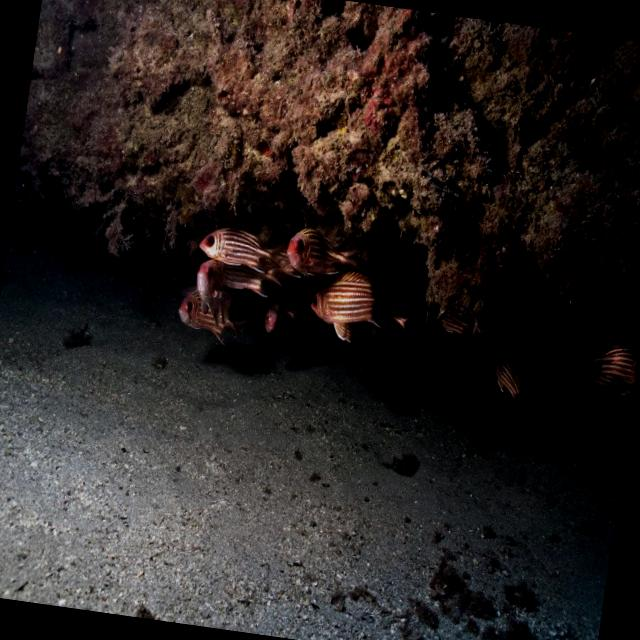Asker Baligi: (299, 264, 427, 352), (190, 214, 286, 286), (282, 218, 372, 286)
